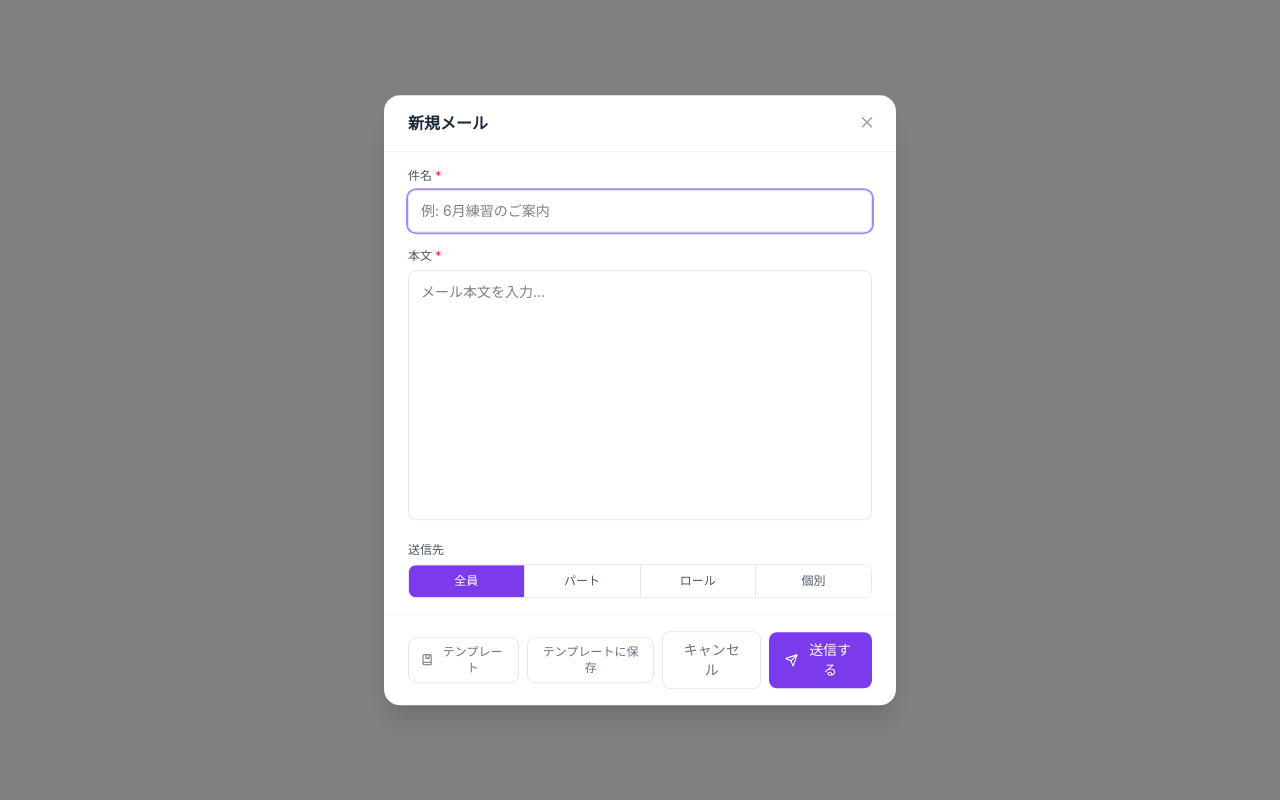
Test: ComposeModal（送信先タブ） › 「パート」タブでパート一覧を表示し、未選択で送信するとエラーになる
The width and height of the screenshot is (1280, 800).
Click the button "パート" at (583, 581), box [525,565,641,597]
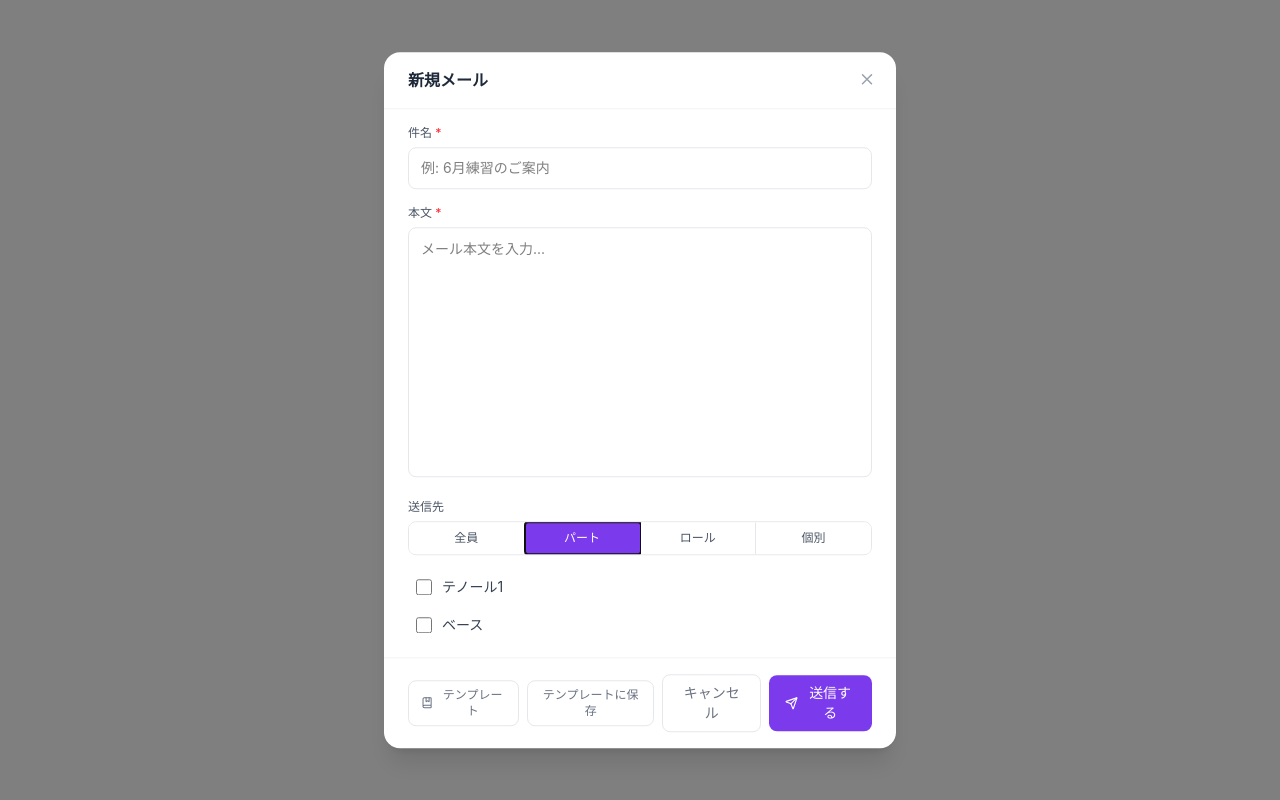
Result: the text "テノール1" is shown at [442,577,503,597]
Type "件名" into the field with placeholder "例: 6月練習のご案内" at (640, 168), box [408,147,872,189]
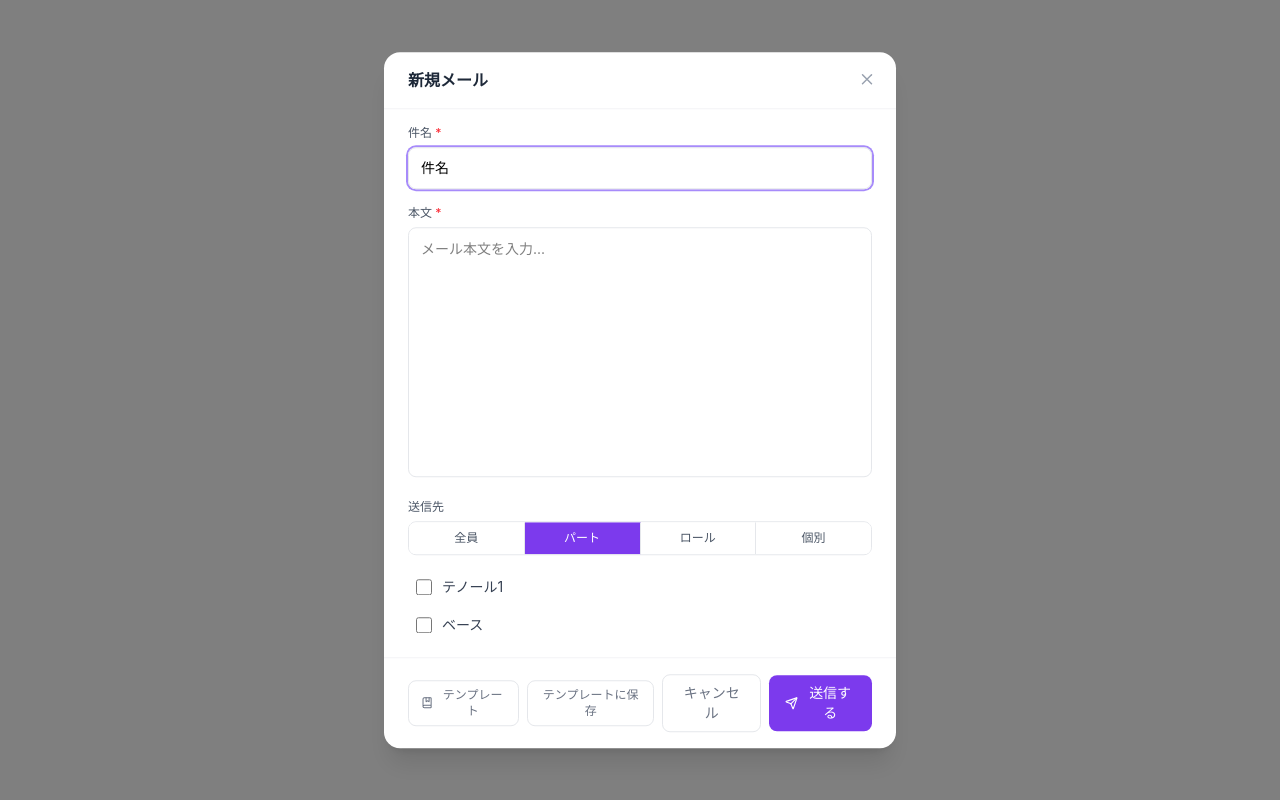
Type "本文" into the text box with placeholder "メール本文を入力..." at (640, 352), box [408,227,872,477]
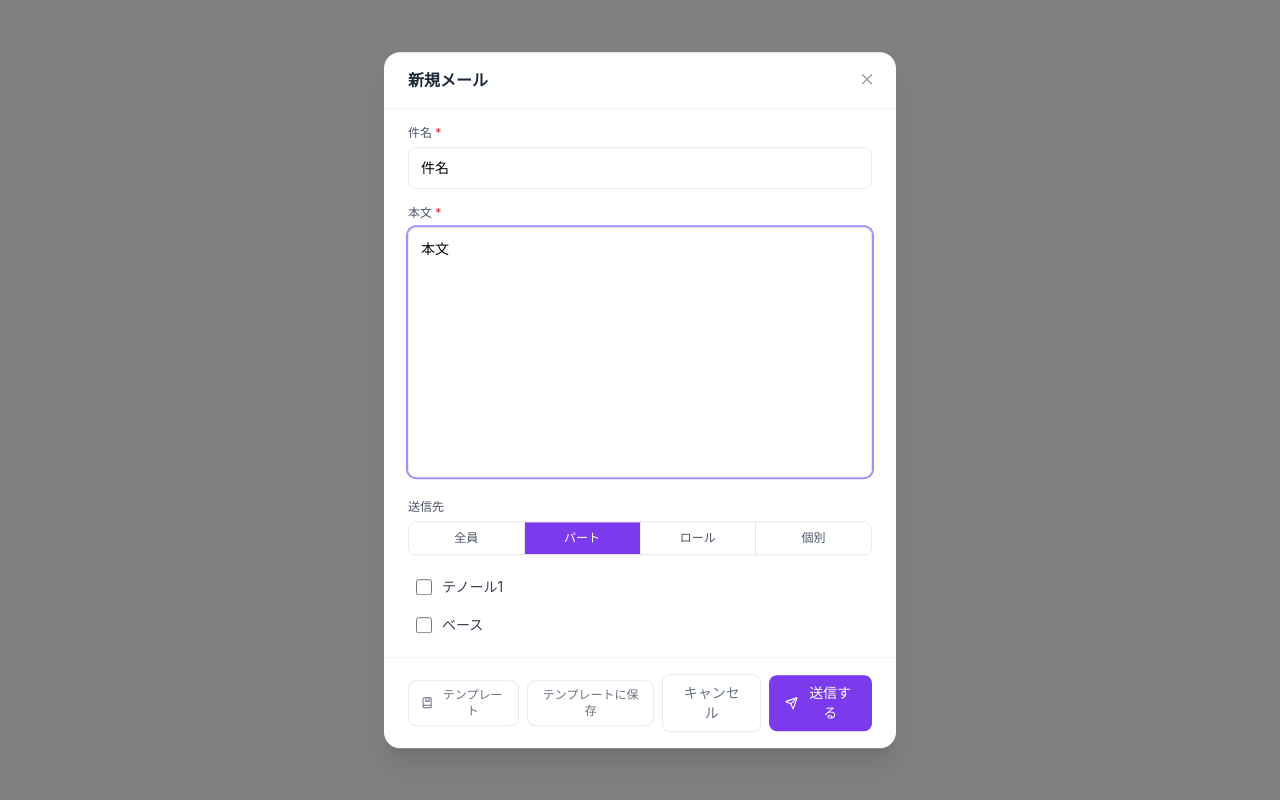
Click the button "送信する" at (821, 703), box [769,675,872,731]
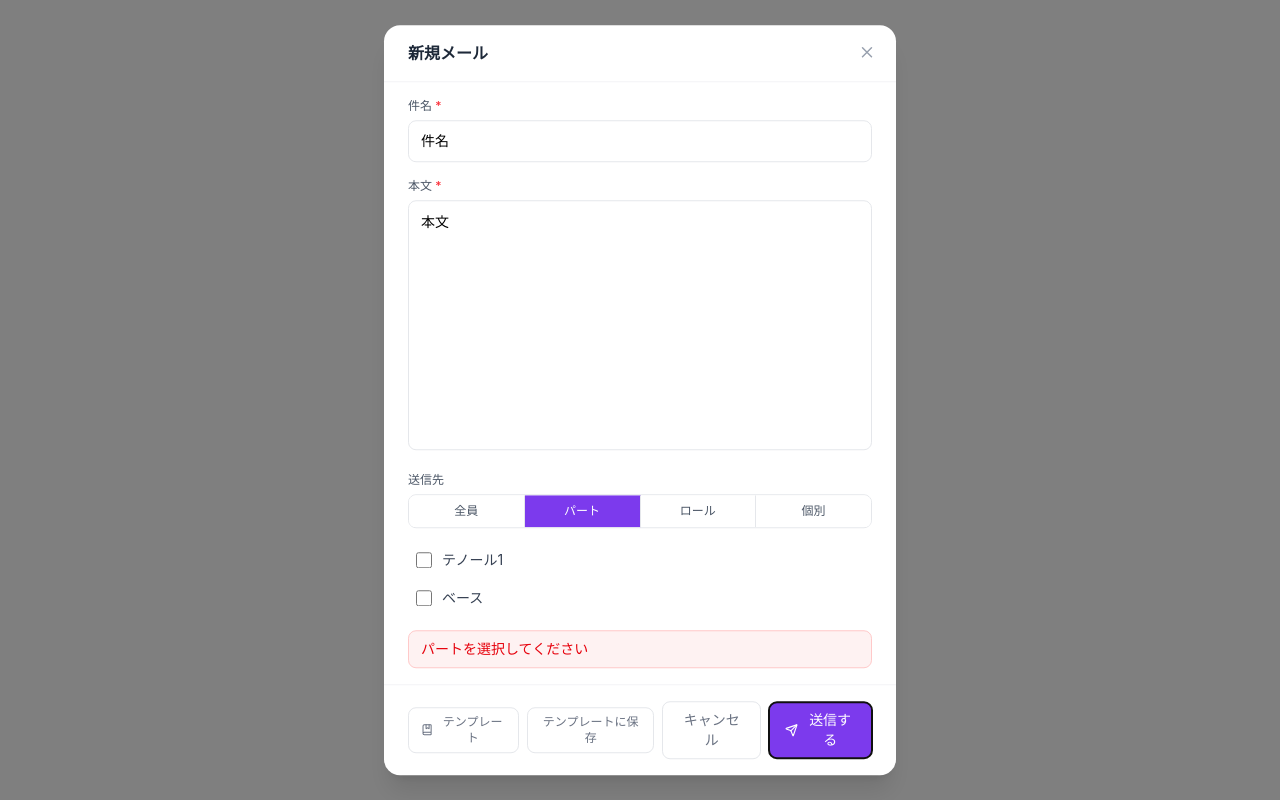
Result: the text "パートを選択してください" is shown at [408,630,872,668]
